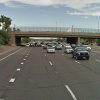Bridge: (12, 22, 95, 44)
